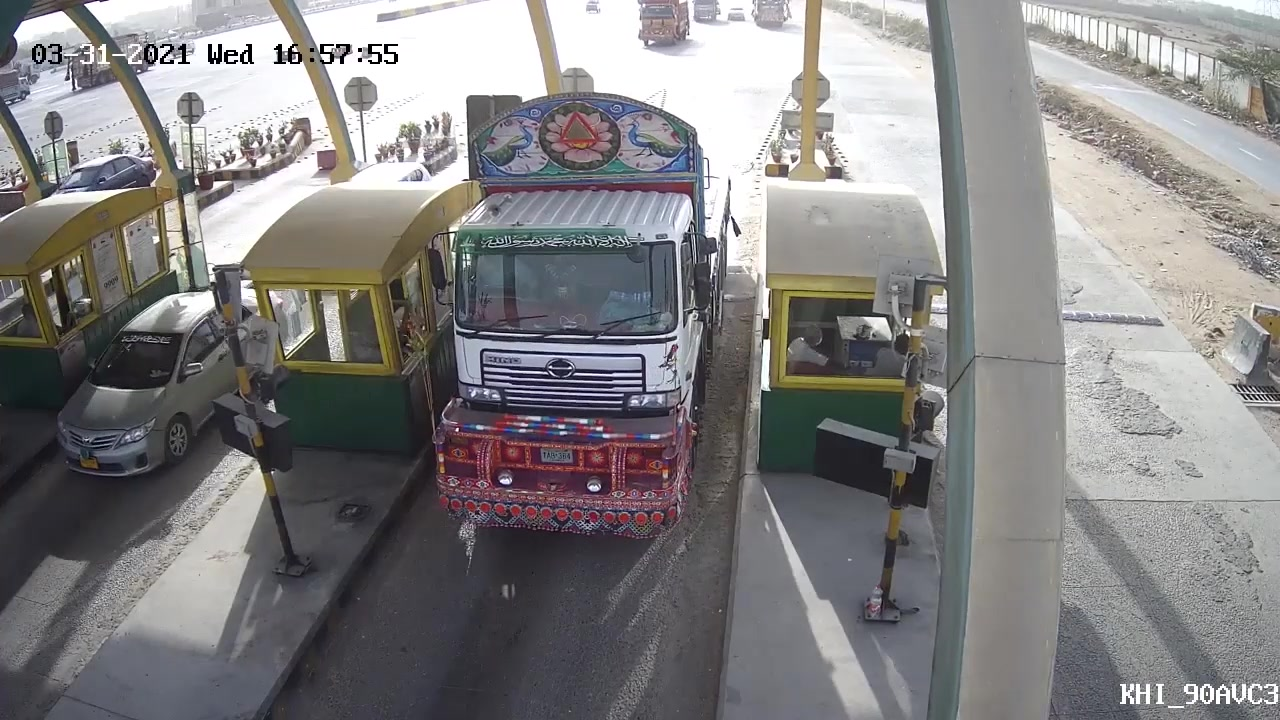F5: (425, 92, 735, 542)
